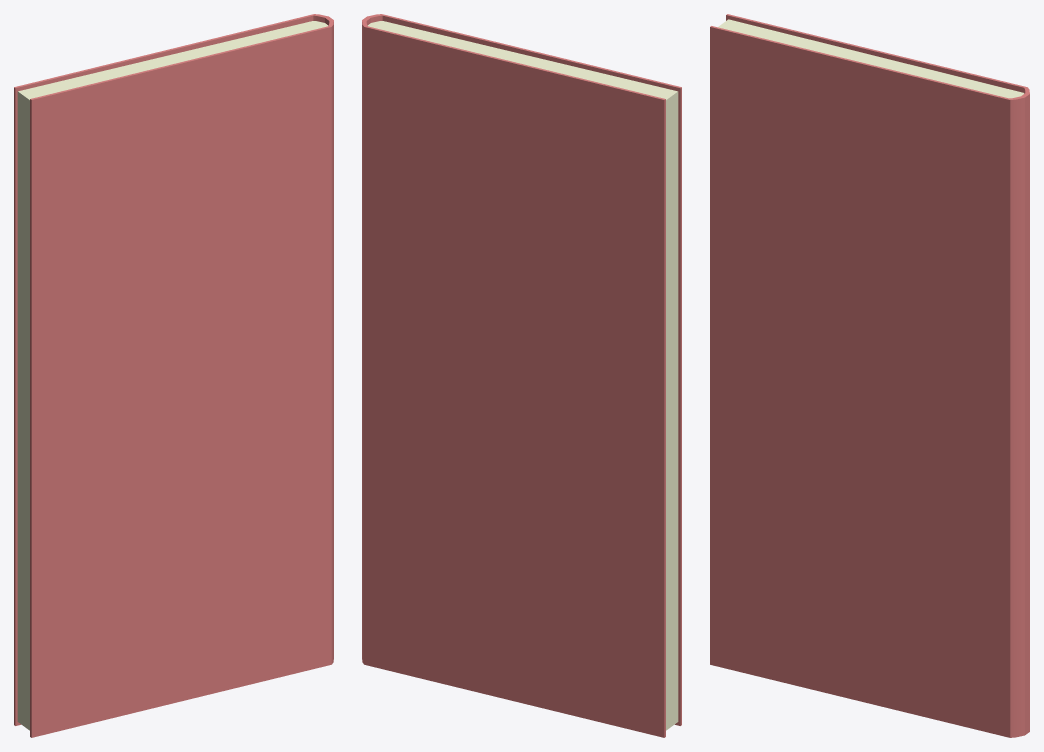
File: newbook3.fbx
3 renders of one model, left to right at view 1: azimuth 30°, elevation 25°; view 2: azimuth 150°, elevation 25°; view 3: azimuth 330°, elevation 25°, orthographic.
Parts seen in each view (by area): view 1: Book3; view 2: Book3; view 3: Book3.
Part boxes in pixels (x1,y1,x2,y2): Book3: (14,14,333,737); Book3: (362,14,681,737); Book3: (710,14,1029,737).
Bounding box in the file's own units: 11.75 × 23.2 × 1.16.
